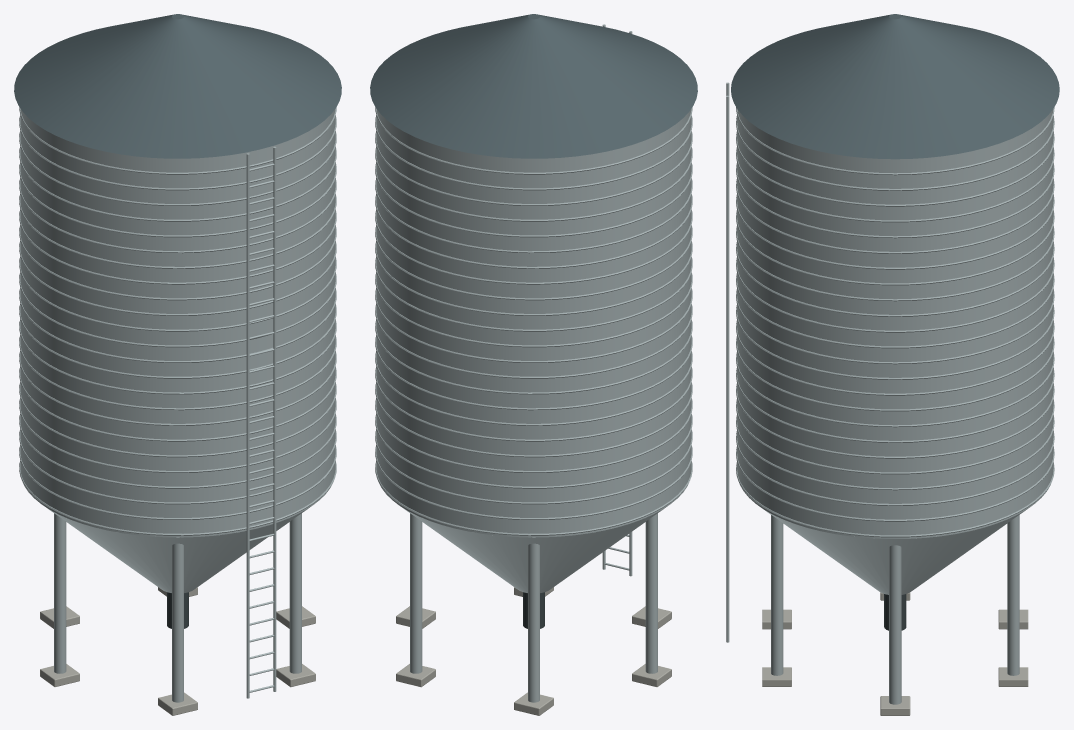
File: grain_silo.glb
3 renders of one model, left to right at view 1: azimuth 30°, elevation 25°; view 2: azimuth 150°, elevation 25°; view 3: azimuth 270°, elevation 25°, orthographic.
Parts seen in each view (by area): view 1: grain_silo; view 2: grain_silo; view 3: grain_silo.
Part boxes in pixels (x1=…): grain_silo: x1=14, y1=14, x2=341, y2=715; grain_silo: x1=370, y1=14, x2=697, y2=715; grain_silo: x1=726, y1=14, x2=1059, y2=715.
Size of the model in its own units: 5.3 by 11.3 by 5.38.
